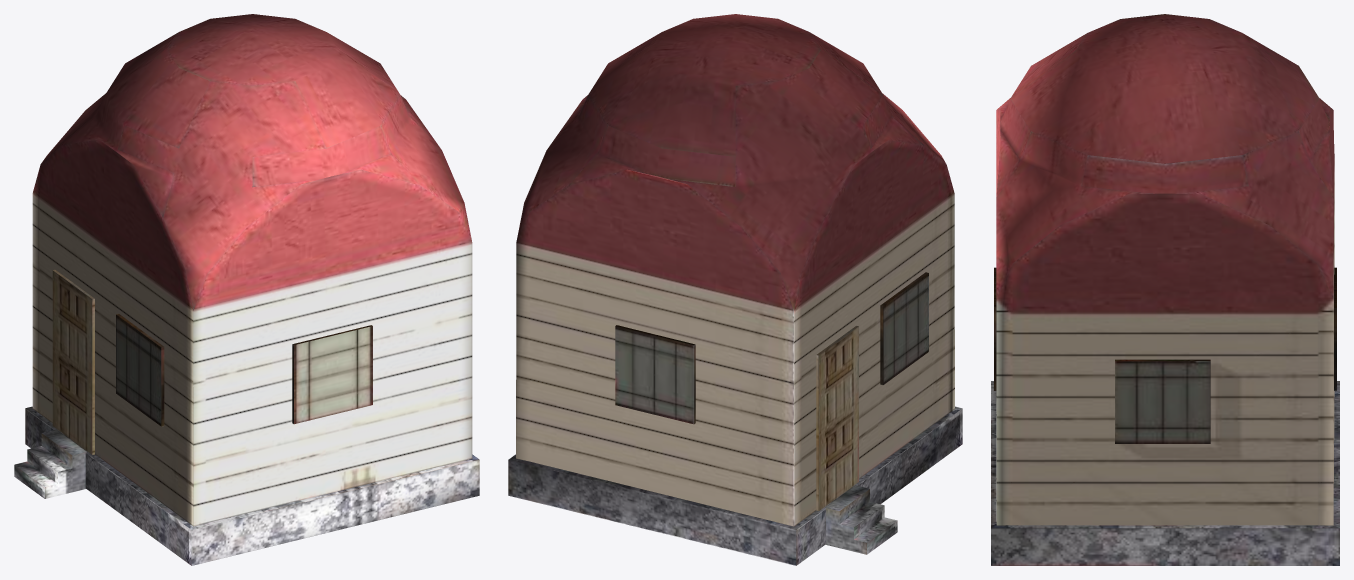
The model's file is Casa3.fbx.
The picture shows the model from 3 angles, left to right: view 1: azimuth 30°, elevation 25°; view 2: azimuth 150°, elevation 25°; view 3: azimuth 270°, elevation 25°; orthographic projection. The views are drawn at different scales.
Visible parts, largest first — view 1: Casa3_00; view 2: Casa3_00; view 3: Casa3_00.
Boxes of the visible parts, x1,y1,x2,y2 form: Casa3_00: (14, 14, 479, 565); Casa3_00: (508, 14, 962, 565); Casa3_00: (991, 14, 1339, 565).
Size of the model in its own units: 3.42 by 4.35 by 3.
